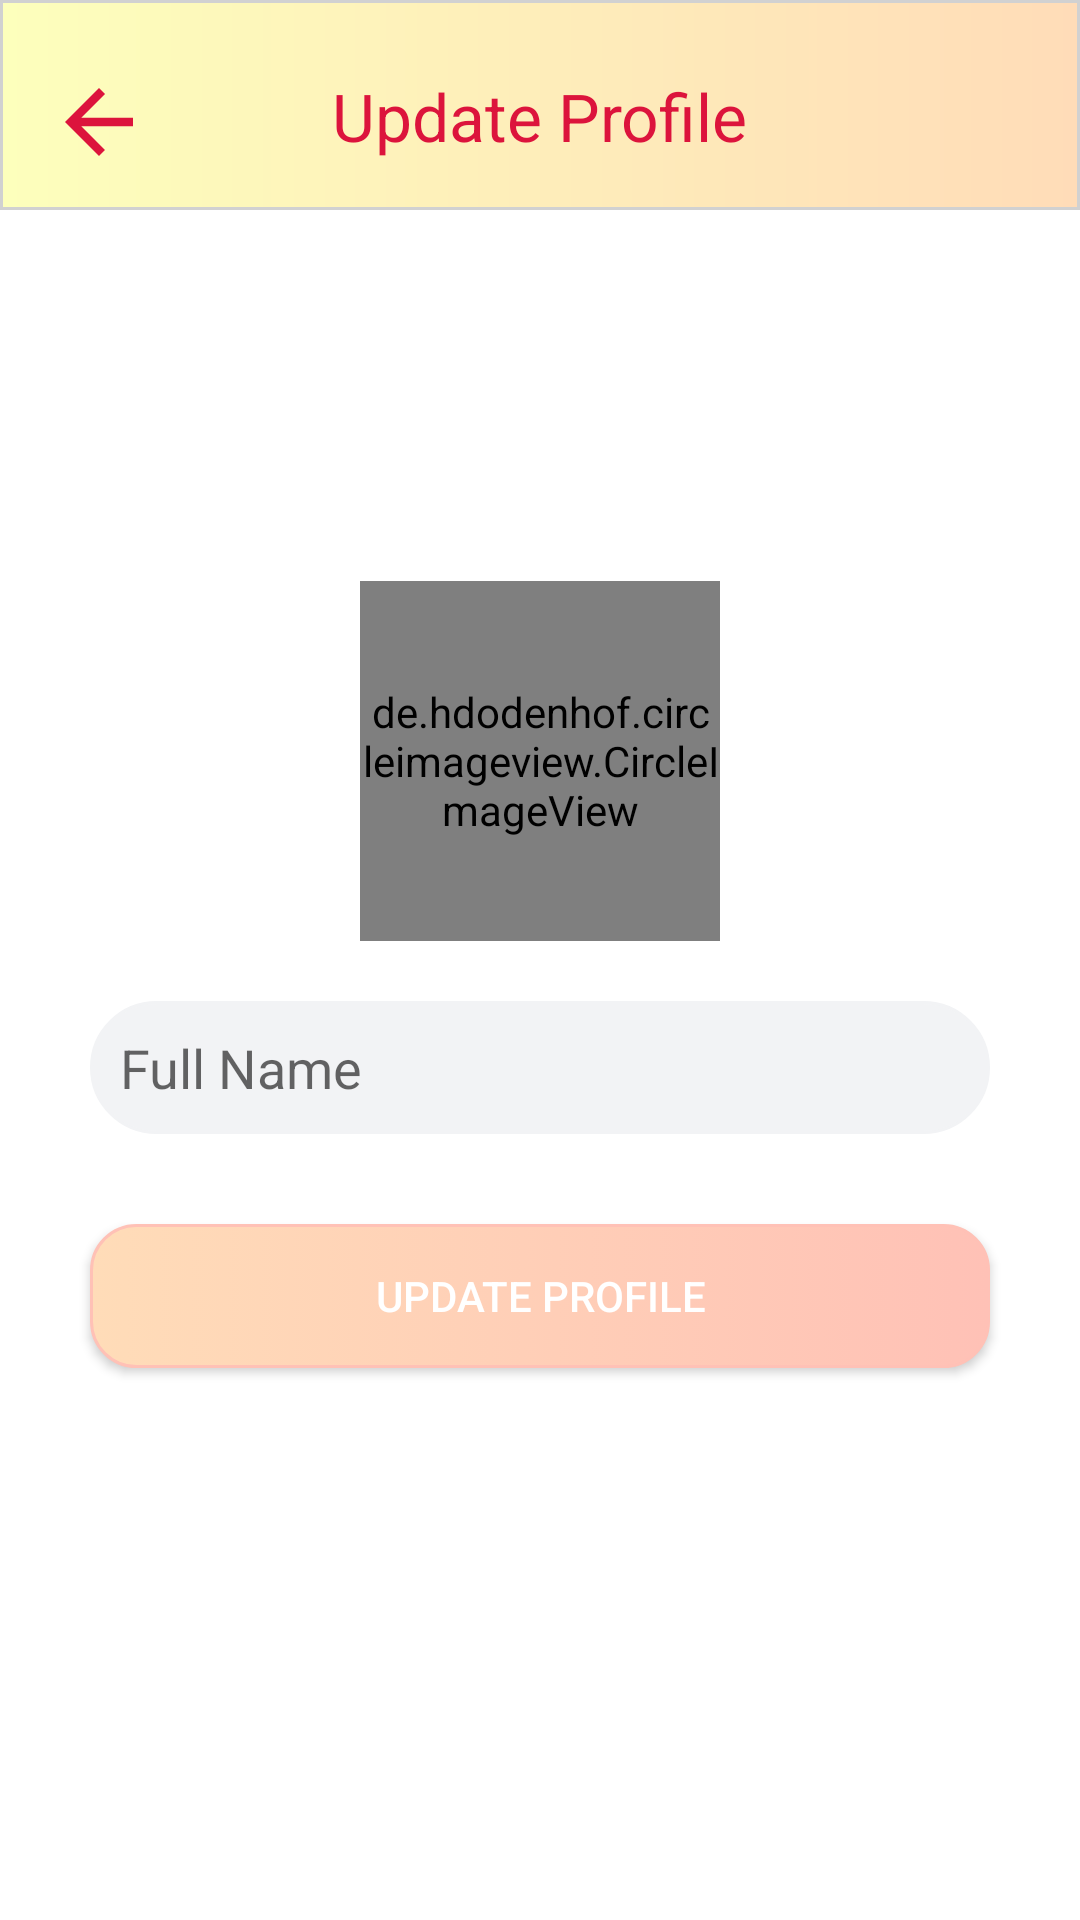

Icons on this 1080px x 1920px Android screen, each with the point to tap as (x=x, y=y):
arrow back: (x=99, y=122)
